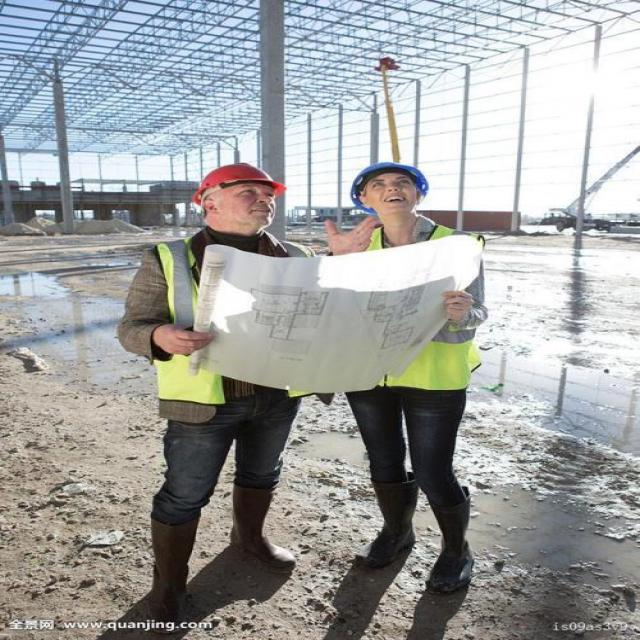helmet: (187, 157, 292, 217), (346, 157, 438, 193)
